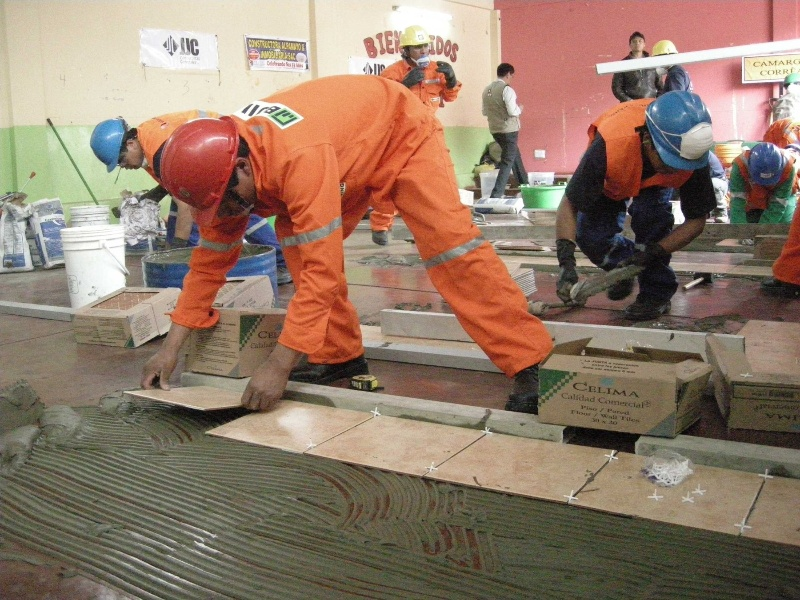casco: (156, 116, 242, 230), (643, 87, 717, 172), (89, 115, 128, 174), (746, 140, 785, 189), (397, 24, 435, 51), (652, 39, 678, 56), (781, 71, 800, 84)
